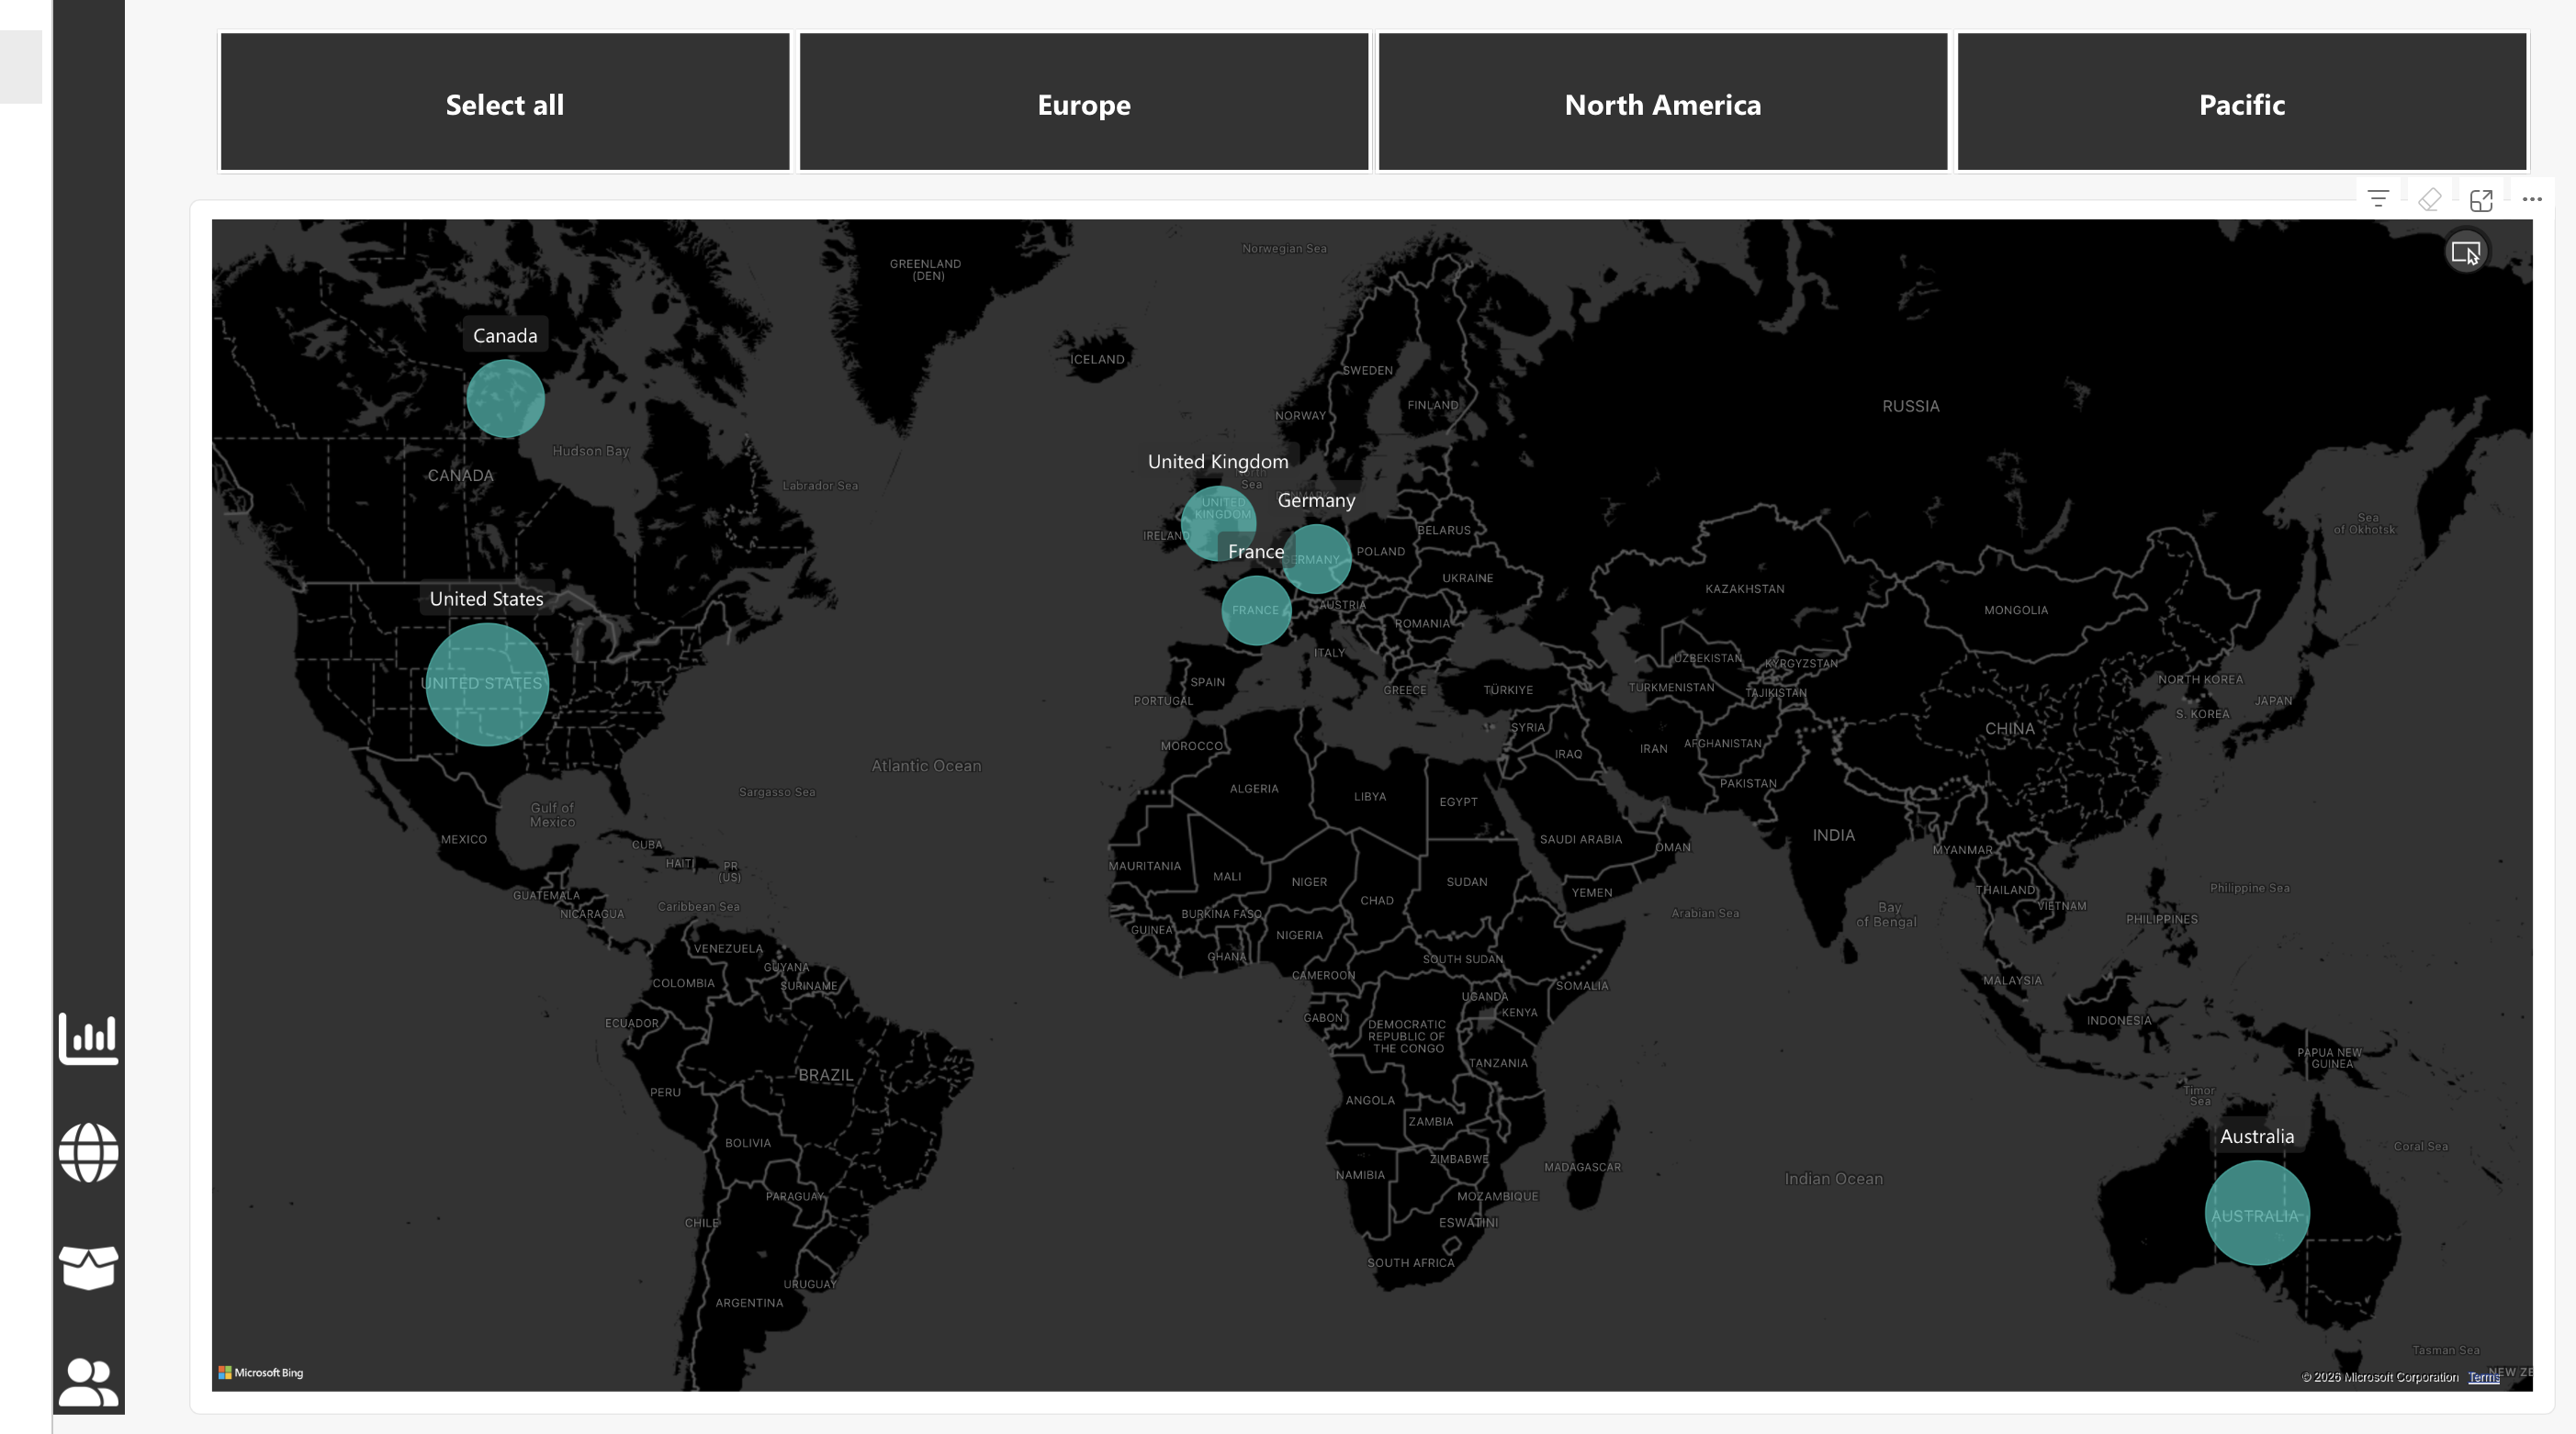

What the dashboard file says about the page in this screenshot:
{"tool":"powerbi","page":{"name":"Map","canvas":[1920,1080],"ordinal":1},"visuals":[{"type":"shape","box":[0,0,54,1064],"z":0},{"type":"map","fields":{"Category":["Territory Lookup.Country"],"Size":["Measure Table.Total Orders"]},"box":[102.5,151.3,1776.2,912.5],"z":1000},{"type":"actionButton","box":[0,827.5,53.2,80.9],"z":1000,"group":"g1"},{"type":"slicer","fields":{"Values":["Territory Lookup.Continent"]},"box":[102.5,22,1776.2,112.2],"z":2000},{"type":"actionButton","box":[0,913.3,53.2,80.9],"z":2000,"group":"g1"},{"type":"actionButton","box":[0,741.7,53.2,80.9],"z":3000,"group":"g1"},{"type":"group","id":"g1","title":"Navigation Buttons","box":[0,741.7,53.7,339.1],"z":3000},{"type":"actionButton","box":[0,999.1,53.2,80.9],"z":4000,"group":"g1"}]}

Visuals, with their boxes on the page's 1920x1080 design canvas (x1, y1, x2, y2). These are canvas units, not pixel positions in the 2576x1434 screenshot, which may show the page scaled, cropped or inside an application window:
shape: <box>0,0,54,1064</box>
map - Territory Lookup.Country x Measure Table.Total Orders: <box>102,151,1879,1064</box>
actionButton: <box>0,828,53,908</box>
slicer - Territory Lookup.Continent: <box>102,22,1879,134</box>
actionButton: <box>0,913,53,994</box>
actionButton: <box>0,742,53,823</box>
"Navigation Buttons" group: <box>0,742,54,1081</box>
actionButton: <box>0,999,53,1080</box>
